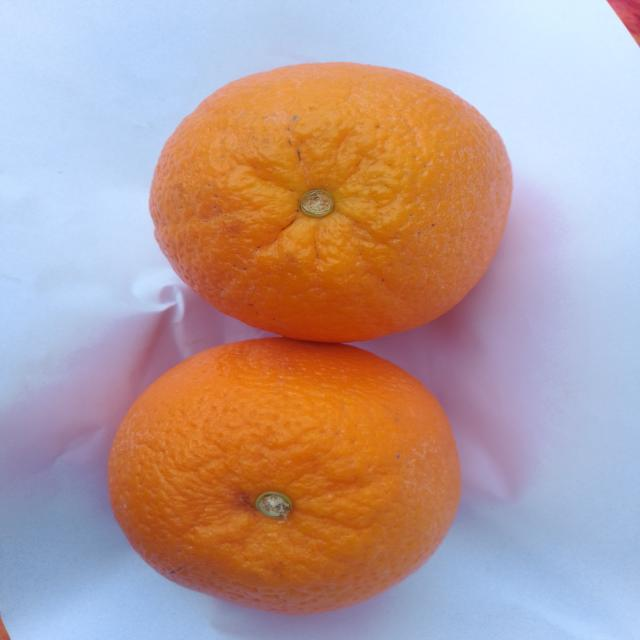orange: (150, 64, 511, 341), (109, 338, 460, 614)
